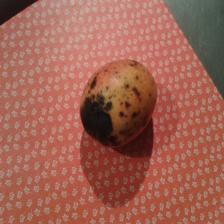Mango Semirotten: (78, 53, 160, 150)
